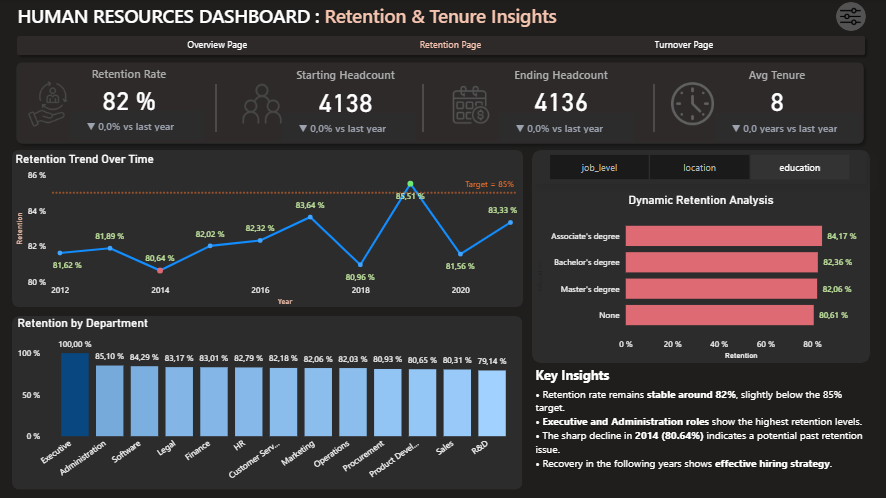

The page's visual inventory and layout, read from the dashboard file:
{"tool":"powerbi","page":{"name":"Retention Page","canvas":[1280,720],"ordinal":1},"visuals":[{"type":"shape","box":[20.8,46.1,1235.3,41.7],"z":0},{"type":"textbox","box":[23,0,810.7,47.5],"z":1000},{"type":"shape","box":[17.3,82.1,1238.4,135.4],"z":2000},{"type":"shape","box":[769,217.4,486.7,306.7],"z":3000},{"type":"shape","box":[20.2,217.4,735.8,226.1],"z":4000},{"type":"shape","box":[20.8,456.9,735.3,250],"z":5000},{"type":"lineChart","title":"Retention Trend Over Time","fields":{"Y":["_Mesures.Retention"],"Category":["Dates.Year"]},"box":[20.2,220.3,735.8,226.1],"z":6000},{"type":"textbox","box":[769,524.2,486.7,57.6],"z":7000},{"type":"cardVisual","fields":{"Data":["_Mesures.Retention Label"]},"box":[103.7,161.6,193,41.8],"z":8000},{"type":"advanceCardE03760C5AB684758B56AA29F9E6C257B","fields":{"mainMeasure":["_Mesures.Retention"]},"box":[115.2,92.5,146.9,83.5],"z":9000},{"type":"shape","box":[292.3,122.4,43.2,69.1],"z":10000},{"type":"image","box":[38.9,116.6,66.2,69.1],"z":11000},{"type":"advanceCardE03760C5AB684758B56AA29F9E6C257B","fields":{"mainMeasure":["_Mesures.Starting Headcount"]},"box":[423.4,93.6,154.1,86.4],"z":12000},{"type":"shape","box":[590.4,122.8,43.2,69.1],"z":13000},{"type":"image","box":[347,116.6,66.2,69.1],"z":14000},{"type":"cardVisual","fields":{"Data":["_Mesures.Avg Salary Label"]},"box":[721.4,164.5,193,41.8],"z":15000},{"type":"advanceCardE03760C5AB684758B56AA29F9E6C257B","fields":{"mainMeasure":["_Mesures.Headcount"]},"box":[737.3,93.6,146.9,86.4],"z":16000},{"type":"shape","box":[923,122.4,43.2,69.1],"z":17000},{"type":"image","box":[643.7,113.8,74.9,77.8],"z":18000},{"type":"cardVisual","fields":{"Data":["_Mesures.Avg Tenure Label"]},"box":[1032.5,164.2,210.2,41.8],"z":19000},{"type":"advanceCardE03760C5AB684758B56AA29F9E6C257B","fields":{"mainMeasure":["_Mesures.AvgTenure"]},"box":[1048.3,93.6,146.9,83.5],"z":20000},{"type":"image","box":[969.1,113.8,61.9,74.9],"z":21000},{"type":"shape","box":[1206.7,4.3,43.2,41.8],"z":22000},{"type":"image","box":[1212.5,8.6,30.2,33.1],"z":23000},{"type":"group","id":"g1","title":"Filter Panel","box":[609.8,0.9,666.7,404.6],"z":24000},{"type":"textbox","box":[769,553,486.7,154.1],"z":25000},{"type":"cardVisual","fields":{"Data":["_Mesures.Starting Headcount Label"]},"box":[409,164.2,193,41.8],"z":26000},{"type":"slicer","fields":{"Values":["Dynamic Dimension.Dynamic Dimension"]},"box":[769,217.4,481,49],"z":27000},{"type":"clusteredBarChart","title":"Dynamic Retention Analysis","fields":{"Category":["EducationDim.education"],"Y":["_Mesures.Retention"]},"box":[769,279.4,486.7,244.8],"z":28000},{"type":"pageNavigator","box":[153.3,47.6,1000.2,34.2],"z":29000},{"type":"columnChart","title":"Retention by Department","fields":{"Category":["DepartmentDim.department"],"Y":["_Mesures.Retention"]},"box":[22.3,456.9,733.8,247.1],"z":31000}]}

Visuals, with their boxes in screenshot pixels (x1, y1, x2, y2), scaled from the page's 1280x720 canvas onto the 886x498 screenshot:
shape: bbox(14, 32, 869, 61)
textbox: bbox(16, 0, 577, 33)
shape: bbox(12, 57, 869, 150)
shape: bbox(532, 150, 869, 363)
shape: bbox(14, 150, 523, 307)
shape: bbox(14, 316, 523, 489)
"Retention Trend Over Time" lineChart: bbox(14, 152, 523, 309)
textbox: bbox(532, 363, 869, 402)
cardVisual - _Mesures.Retention Label: bbox(72, 112, 205, 141)
advanceCardE03760C5AB684758B56AA29F9E6C257B - _Mesures.Retention: bbox(80, 64, 181, 122)
shape: bbox(202, 85, 232, 132)
image: bbox(27, 81, 73, 128)
advanceCardE03760C5AB684758B56AA29F9E6C257B - _Mesures.Starting Headcount: bbox(293, 65, 400, 124)
shape: bbox(409, 85, 439, 133)
image: bbox(240, 81, 286, 128)
cardVisual - _Mesures.Avg Salary Label: bbox(499, 114, 633, 143)
advanceCardE03760C5AB684758B56AA29F9E6C257B - _Mesures.Headcount: bbox(510, 65, 612, 124)
shape: bbox(639, 85, 669, 132)
image: bbox(446, 79, 497, 133)
cardVisual - _Mesures.Avg Tenure Label: bbox(715, 114, 860, 142)
advanceCardE03760C5AB684758B56AA29F9E6C257B - _Mesures.AvgTenure: bbox(726, 65, 827, 122)
image: bbox(671, 79, 714, 131)
shape: bbox(835, 3, 865, 32)
image: bbox(839, 6, 860, 29)
"Filter Panel" group: bbox(422, 1, 884, 280)
textbox: bbox(532, 382, 869, 489)
cardVisual - _Mesures.Starting Headcount Label: bbox(283, 114, 417, 142)
slicer - Dynamic Dimension.Dynamic Dimension: bbox(532, 150, 865, 184)
"Dynamic Retention Analysis" clusteredBarChart: bbox(532, 193, 869, 363)
pageNavigator: bbox(106, 33, 798, 57)
"Retention by Department" columnChart: bbox(15, 316, 523, 487)
